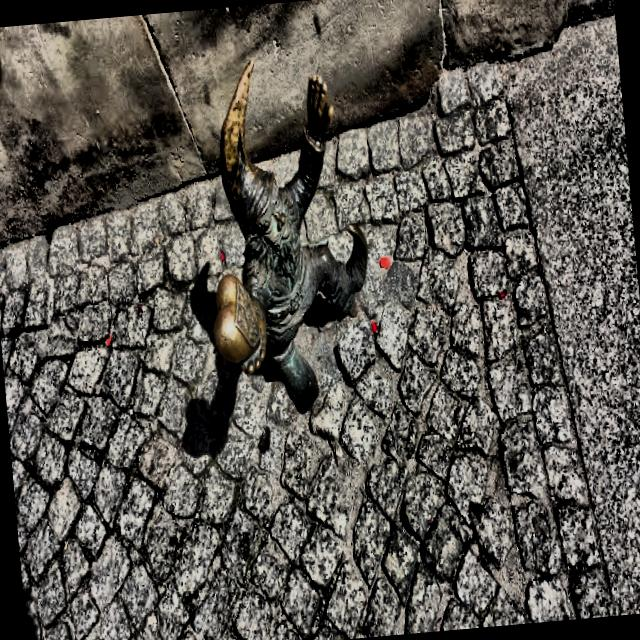WrocLovek: (210, 41, 370, 417)
